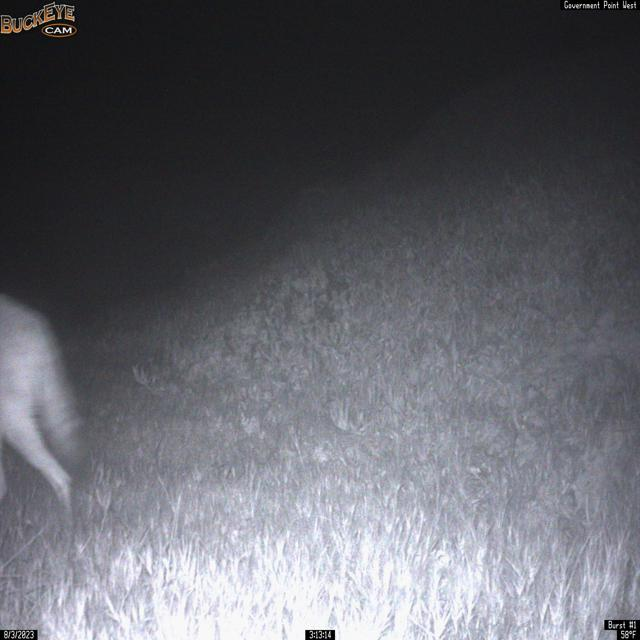coyote: (0, 289, 90, 548)
